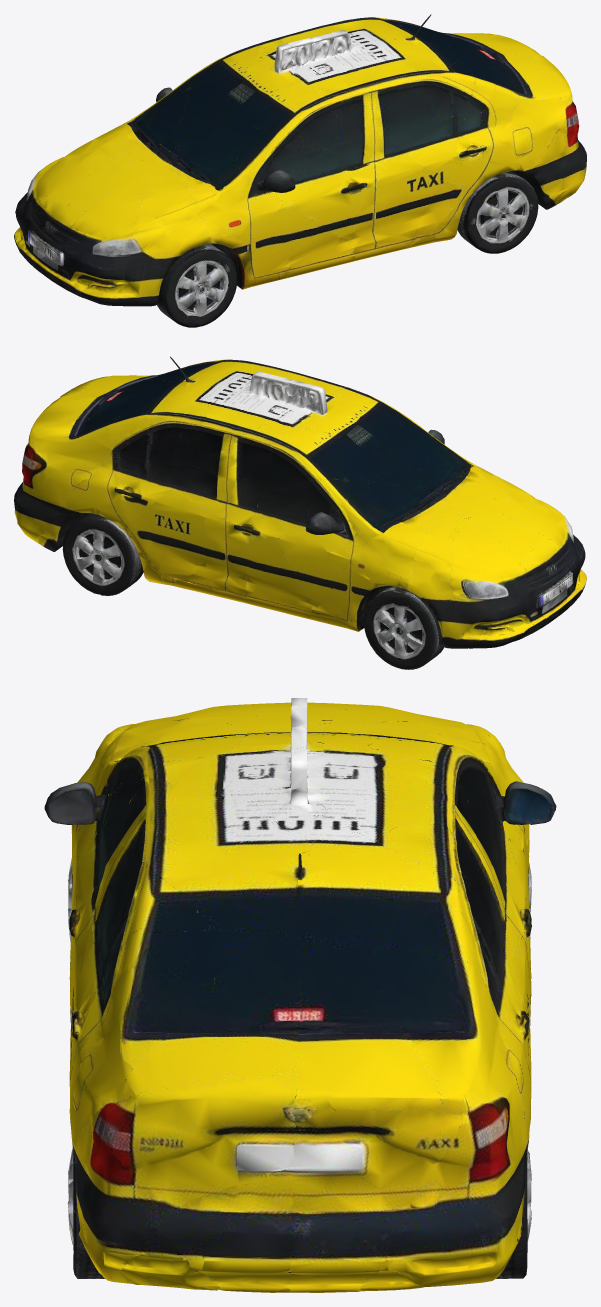
The model's file is taxi.glb.
The picture shows the model from 3 angles, top to bottom: view 1: azimuth 30°, elevation 25°; view 2: azimuth 150°, elevation 25°; view 3: azimuth 270°, elevation 25°; orthographic projection. The views are drawn at different scales.
Visible parts, largest first — view 1: Mesh_0; view 2: Mesh_0; view 3: Mesh_0.
Boxes of the visible parts, left/top/right/bottom form: Mesh_0: left=14, top=14, right=586, bottom=327; Mesh_0: left=14, top=356, right=586, bottom=669; Mesh_0: left=44, top=698, right=556, bottom=1292.
Bounding box in the file's own units: 1.9 × 0.7345 × 0.8258.
Materials: 1 (1 with a texture image).
